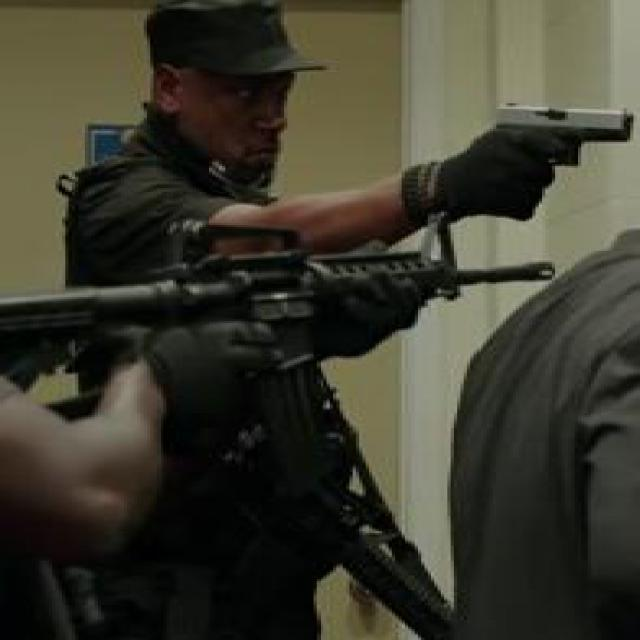Gun: (493, 100, 634, 221)
